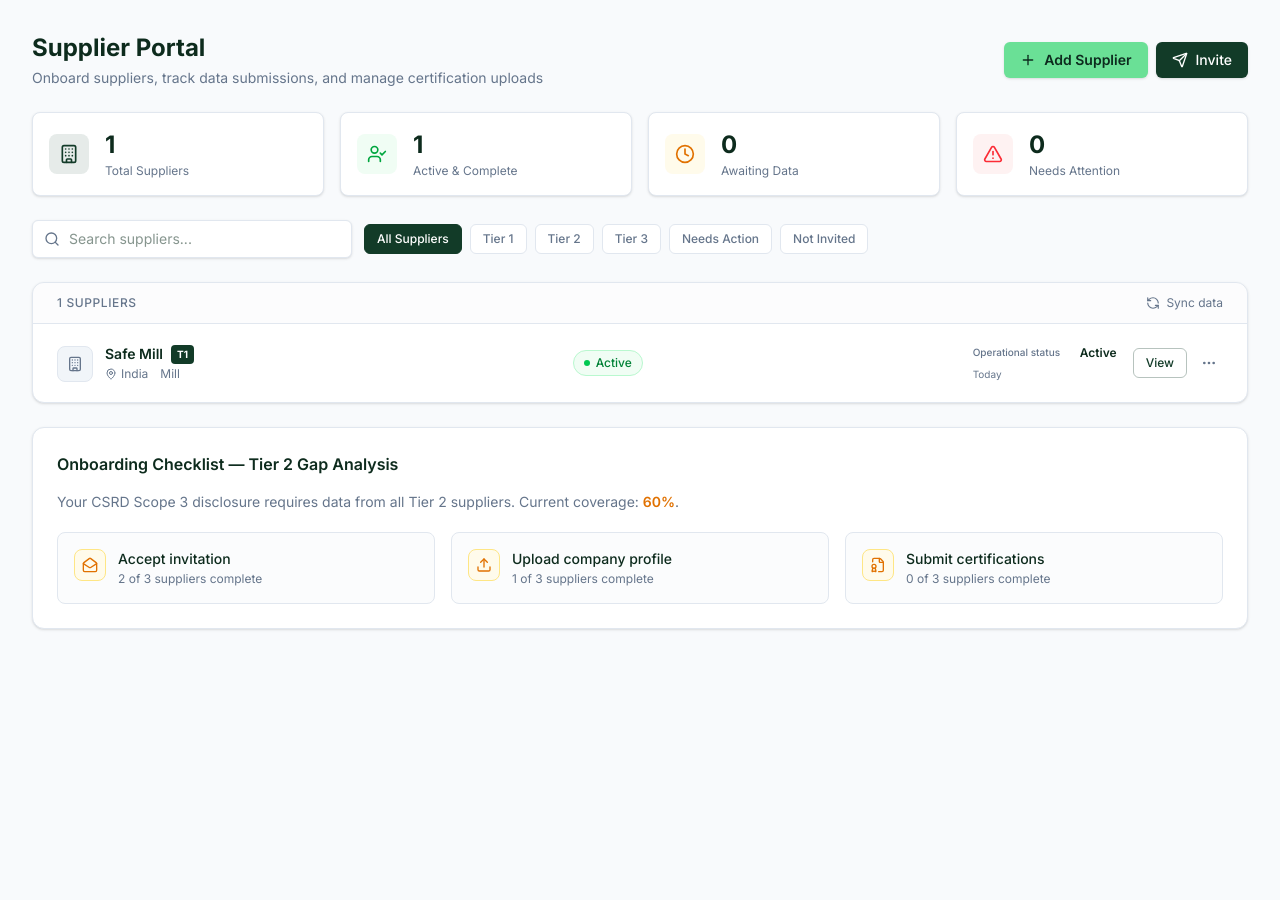
Test case: Supplier Portal access administration › shows safe authorization errors without rendering sensitive identity data
Click the button named "Manage portal access for Safe Mill": click(1209, 363) [1195, 349, 1223, 377]
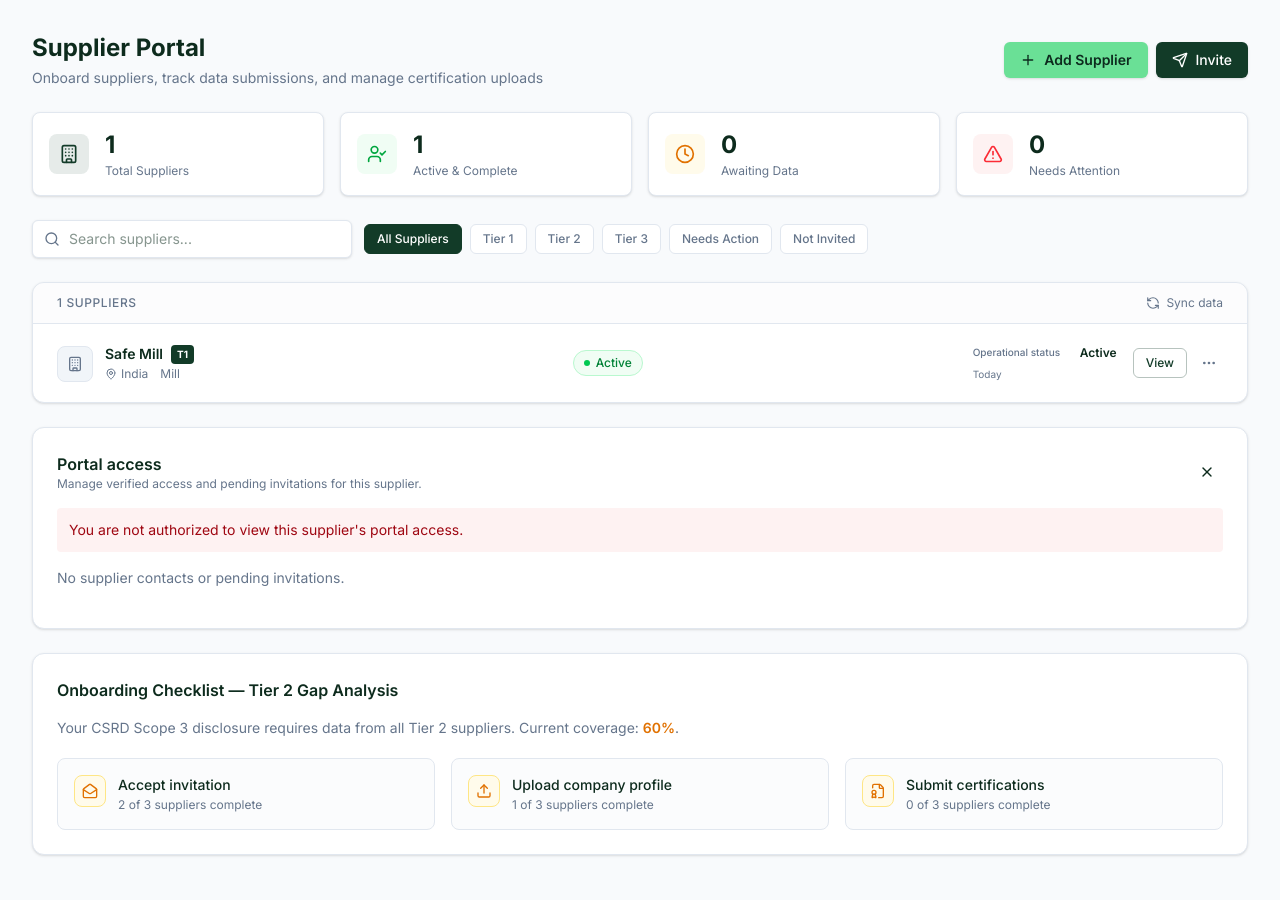
expect the message shows "not authorized": met, box [69, 521, 463, 538]
